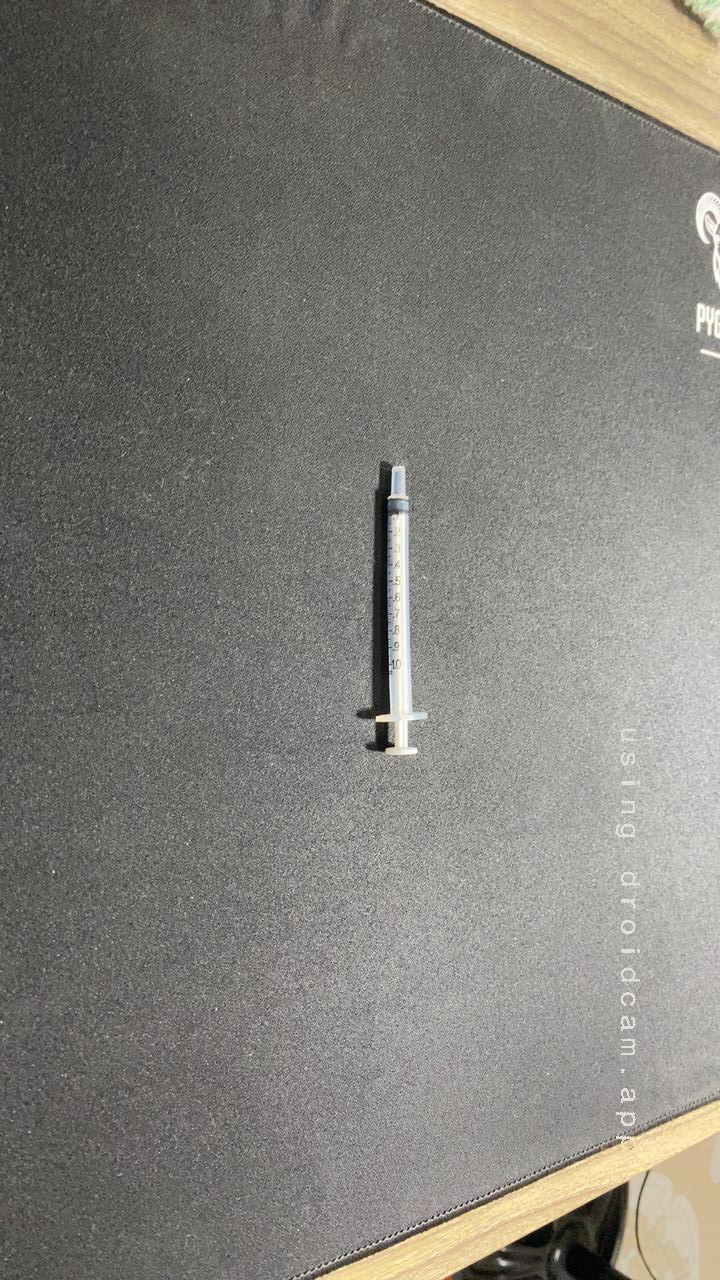syringe: (334, 455, 455, 764)
